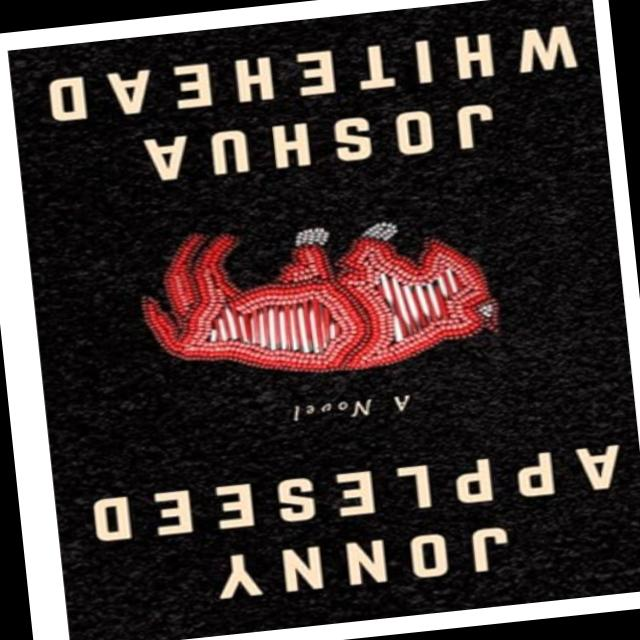titles-or-authors: (32, 14, 594, 209), (78, 434, 640, 620)
